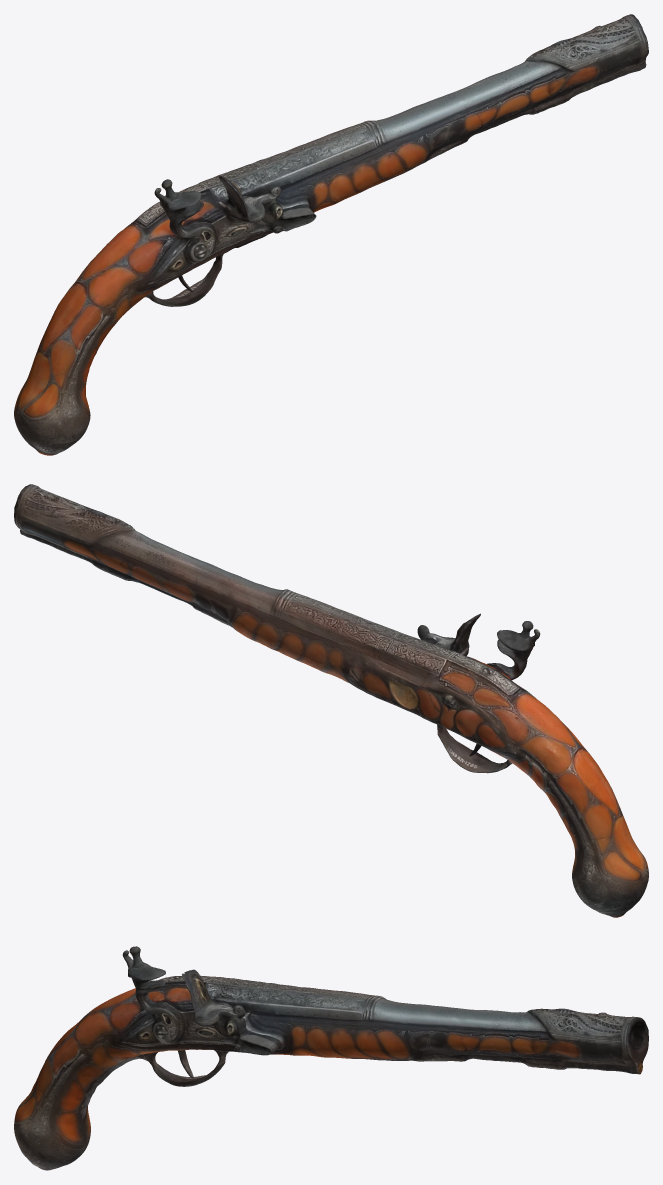
File: flintlock_pistol.glb
The picture shows the model from 3 angles, top to bottom: view 1: azimuth 30°, elevation 25°; view 2: azimuth 150°, elevation 25°; view 3: azimuth 330°, elevation 25°; orthographic projection.
Visible parts, largest first — view 1: Object_2, Object_3, Object_4; view 2: Object_2, Object_3, Object_4; view 3: Object_2, Object_3, Object_4.
Boxes of the visible parts, x1,y1,x2,y2 form: Object_2: (14,14,638,455); Object_3: (15,15,648,454); Object_4: (15,14,648,455); Object_2: (14,484,648,917); Object_3: (14,484,648,912); Object_4: (14,487,648,917); Object_2: (14,946,648,1170); Object_3: (14,946,647,1169); Object_4: (14,949,648,1167).
Bounding box in the file's own units: 62.93 × 28.07 × 8.47.
1 material, 1 textured.
